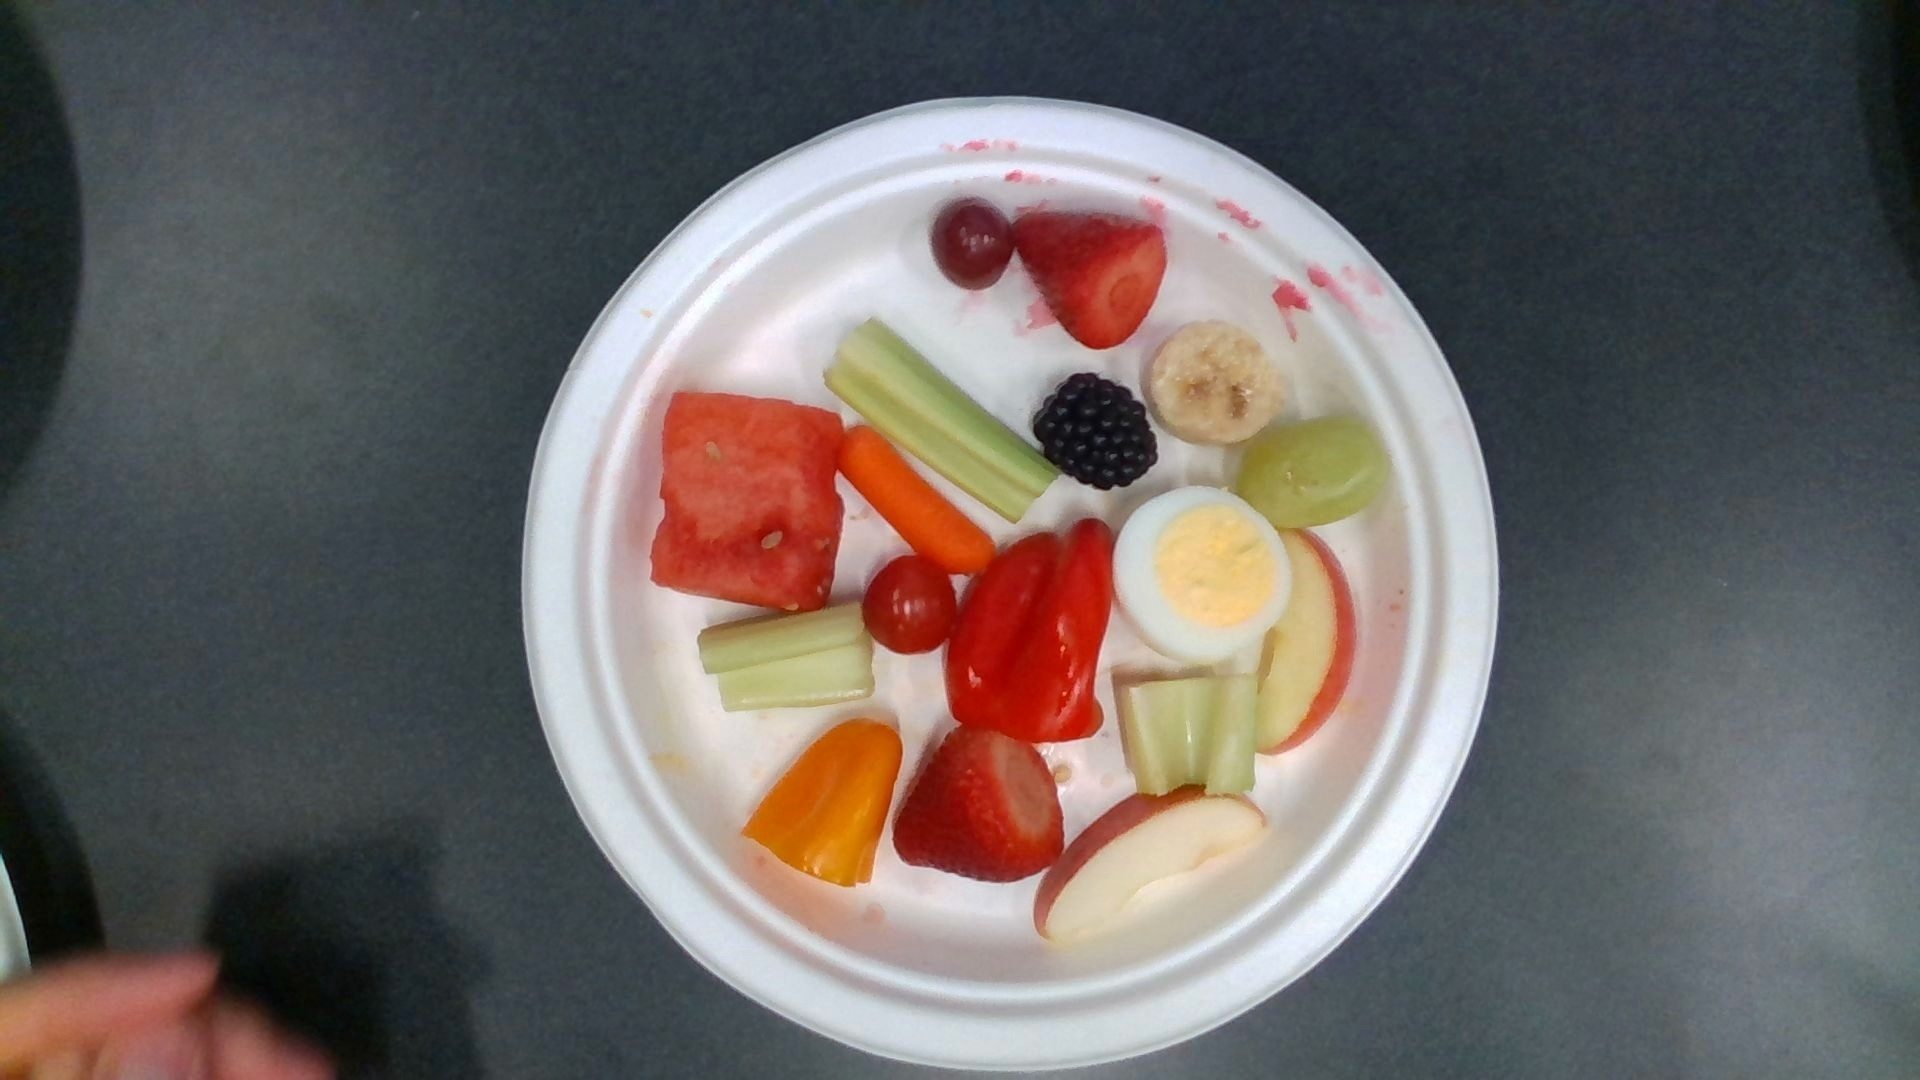apple: (1034, 786, 1269, 936), (1255, 531, 1357, 756)
banana: (1150, 323, 1276, 438)
bell_pepper: (949, 524, 1112, 733), (749, 721, 899, 885)
blackberry: (1036, 375, 1156, 487)
carrot: (840, 429, 994, 574)
celery: (822, 316, 1055, 520), (700, 601, 876, 708), (1120, 673, 1265, 795)
cherry_tomato: (864, 560, 953, 653)
egg: (1110, 485, 1290, 659)
grape_green: (1240, 415, 1379, 526)
grape_purple: (934, 198, 1014, 293)
melon: (651, 396, 843, 613)
strawberry: (894, 736, 1062, 880), (1014, 210, 1167, 345)
